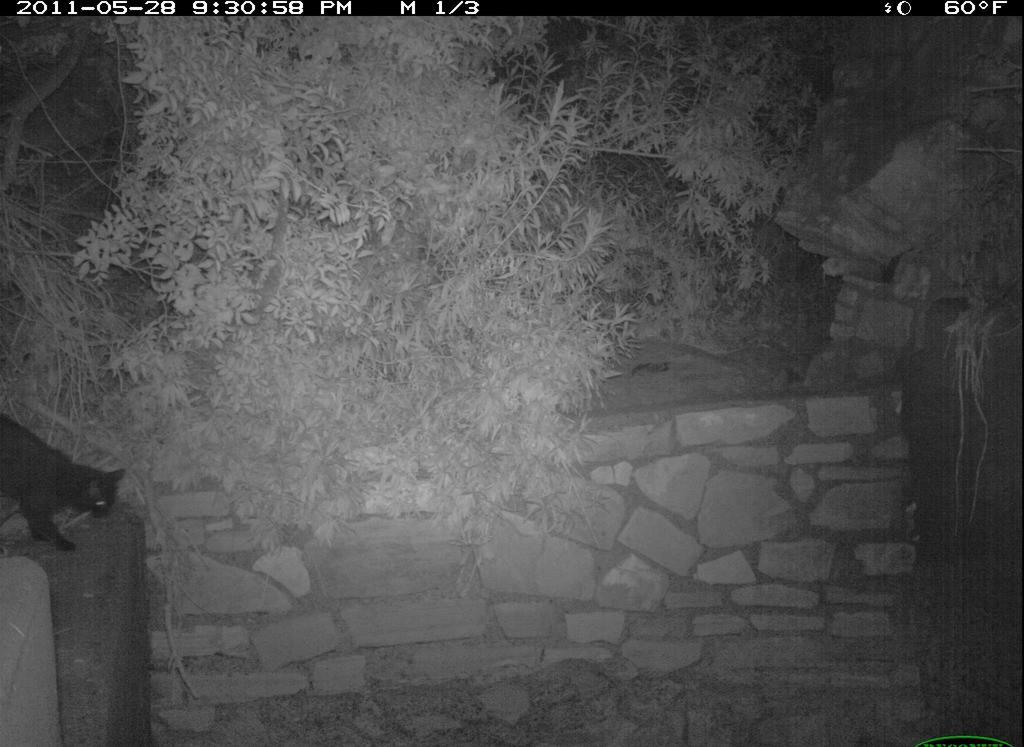cat: (2, 410, 135, 561)
